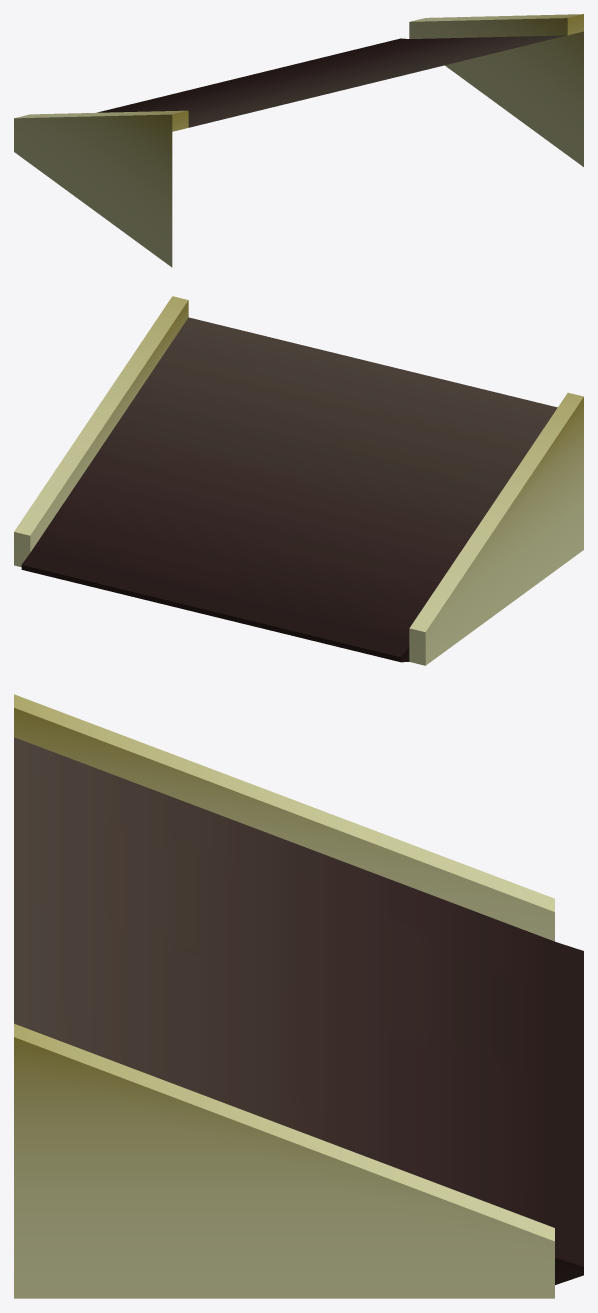
The model's file is SM_Roof_01.fbx.
3 renders of one model, top to bottom at view 1: azimuth 30°, elevation 25°; view 2: azimuth 150°, elevation 25°; view 3: azimuth 270°, elevation 25°, orthographic. The views are drawn at different scales.
Parts seen in each view (by area): view 1: SM_Roof_01; view 2: SM_Roof_01; view 3: SM_Roof_01.
Part boxes in pixels (bbox=[...]): SM_Roof_01: bbox=[14, 14, 583, 267]; SM_Roof_01: bbox=[14, 296, 583, 665]; SM_Roof_01: bbox=[14, 694, 583, 1298].
Size of the model in its own units: 9 by 3.2 by 6.32.
